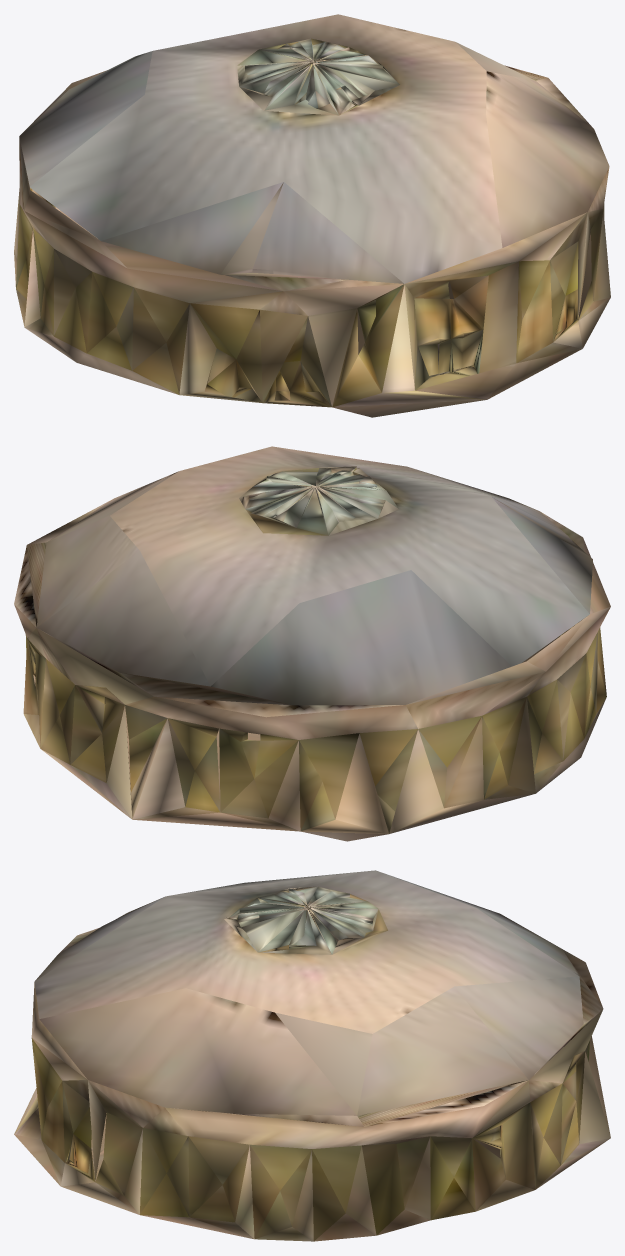
Rendered from dome_hall_far.glb.
3 renders of one model, top to bottom at view 1: azimuth 30°, elevation 25°; view 2: azimuth 150°, elevation 25°; view 3: azimuth 270°, elevation 25°, orthographic. The views are drawn at different scales.
Parts seen in each view (by area): view 1: tripo_node_ecbf3b97-b0b1-4338-b7a2-d6fa16c8324a; view 2: tripo_node_ecbf3b97-b0b1-4338-b7a2-d6fa16c8324a; view 3: tripo_node_ecbf3b97-b0b1-4338-b7a2-d6fa16c8324a.
Part boxes in pixels (x1,y1,x2,y2): tripo_node_ecbf3b97-b0b1-4338-b7a2-d6fa16c8324a: [14, 14, 610, 417]; tripo_node_ecbf3b97-b0b1-4338-b7a2-d6fa16c8324a: [14, 446, 610, 841]; tripo_node_ecbf3b97-b0b1-4338-b7a2-d6fa16c8324a: [14, 870, 610, 1241].
Size of the model in its own units: 110 by 46.11 by 114.
1 material, 1 textured.
